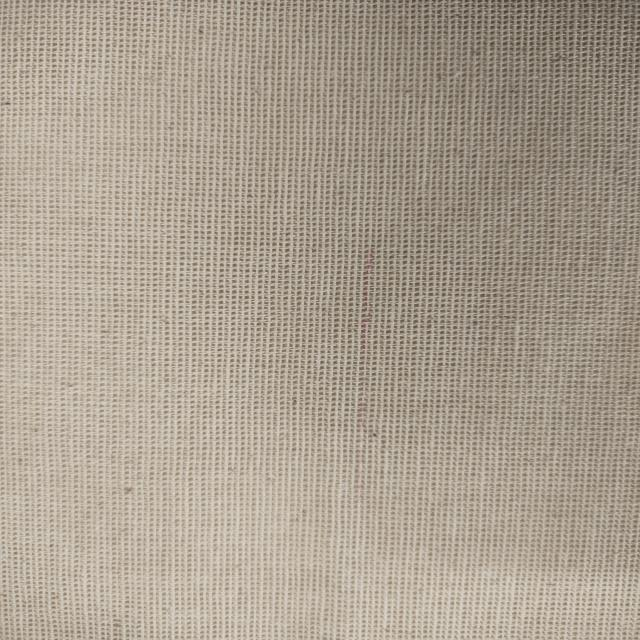stains: (300, 230, 412, 466)
